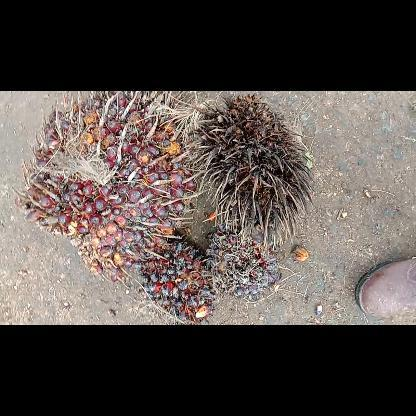Janjang kosong: (191, 92, 318, 254)
TBS abnormal: (137, 238, 217, 324), (202, 224, 284, 302)
TBS masak: (12, 90, 200, 284)
